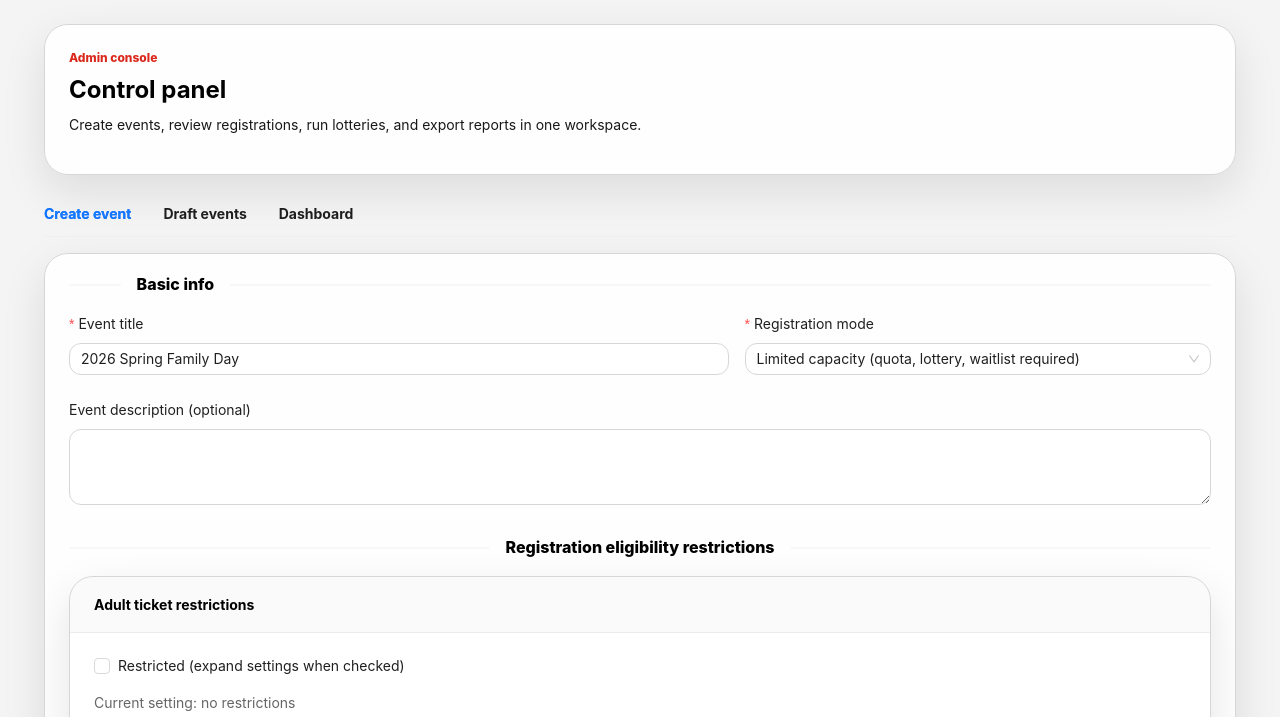
Scenario: AdminConsolePage › loads dashboard tab with stats and registrations
The image size is (1280, 717).
Expected: the text "Admin console" is shown, [69, 50, 157, 65]
Click the tab "Dashboard": (316, 214) [279, 203, 354, 225]
(page scrolled)
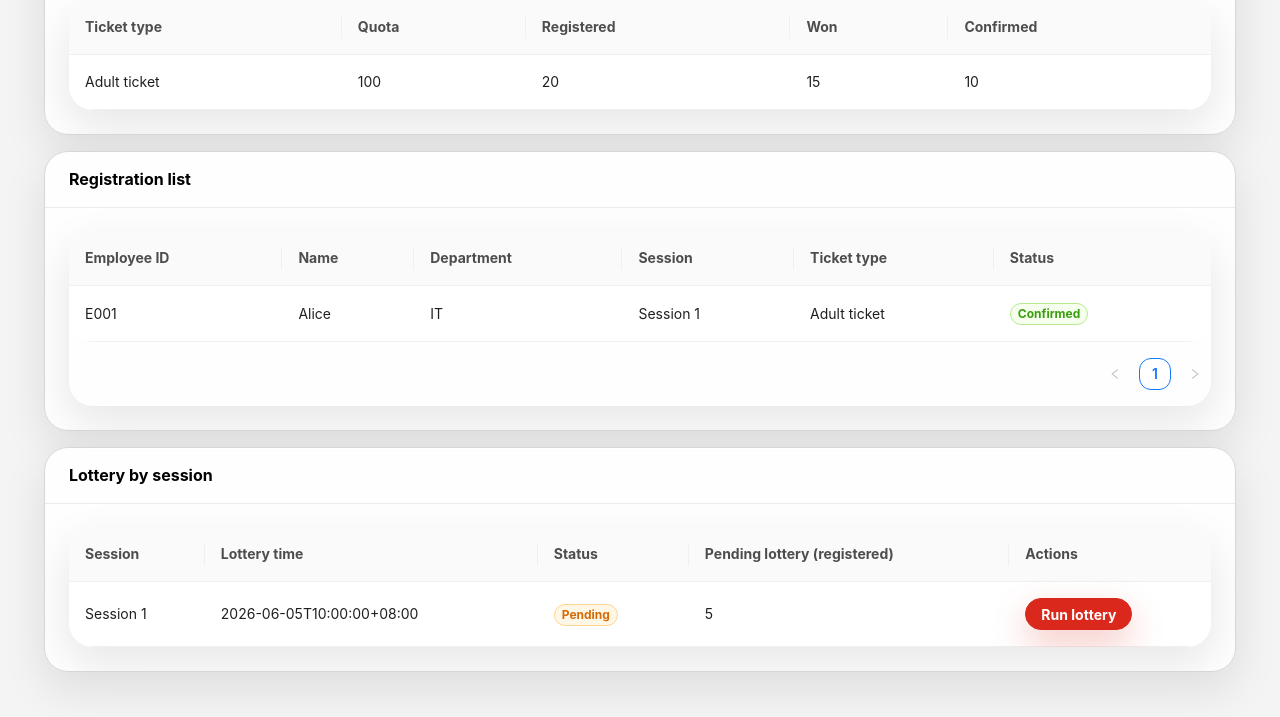
Expected: the text "Registration list" is shown, [69, 169, 191, 189]
Expected: the text "Alice" is shown, [282, 286, 414, 342]
Expected: the text "Lottery by session" is shown, [69, 465, 213, 485]
